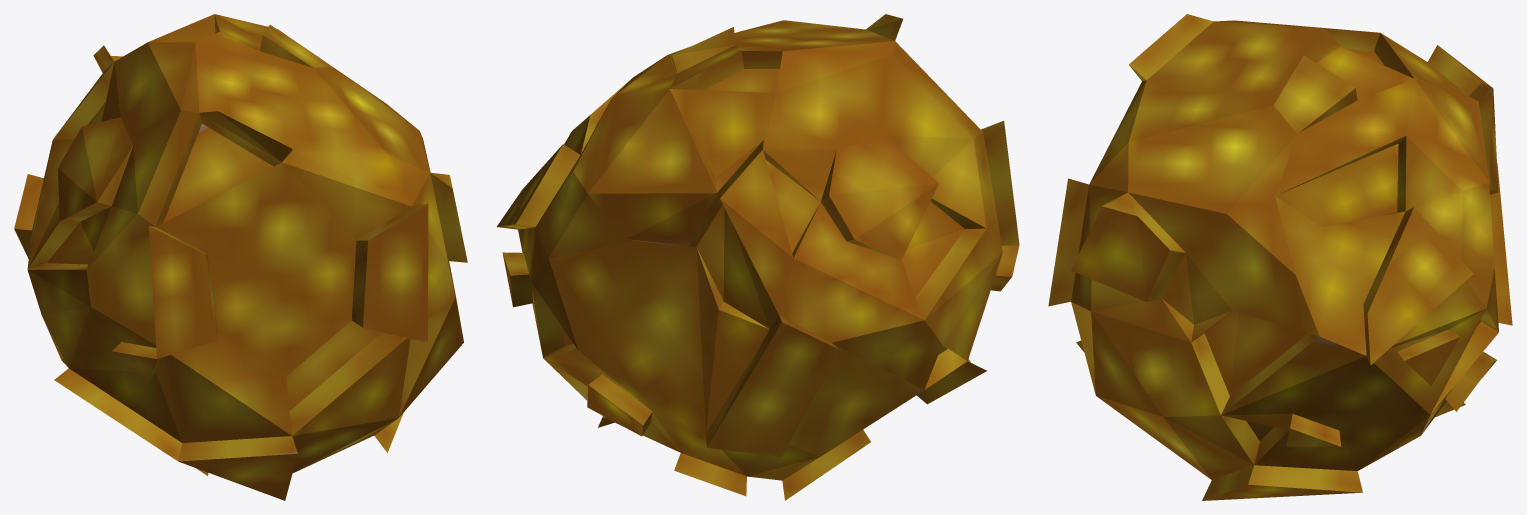
3 renders of one model, left to right at view 1: azimuth 30°, elevation 25°; view 2: azimuth 150°, elevation 25°; view 3: azimuth 270°, elevation 25°, orthographic. The views are drawn at different scales.
Visible parts, largest first — view 1: PedraAsteroide; view 2: PedraAsteroide; view 3: PedraAsteroide.
Part boxes in pixels (x1,y1,x2,y2): PedraAsteroide: (14, 14, 467, 500); PedraAsteroide: (497, 14, 1019, 500); PedraAsteroide: (1048, 14, 1512, 500).
Size of the model in its own units: 780 by 756 by 741.
